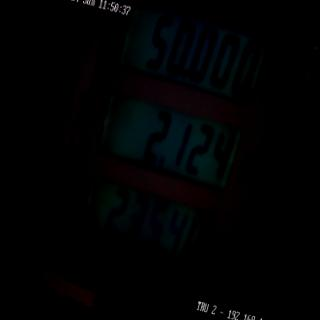screen: (59, 0, 278, 298)
